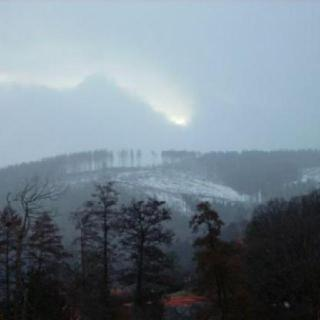Nimbostratus: (0, 0, 320, 152)
